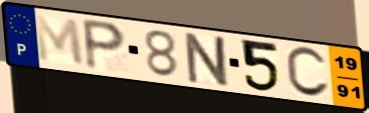5: (237, 38, 284, 94)
8: (142, 28, 180, 79)
C: (284, 45, 333, 100)
M: (32, 13, 88, 69)
N: (183, 31, 233, 90)
P: (80, 16, 129, 73)
